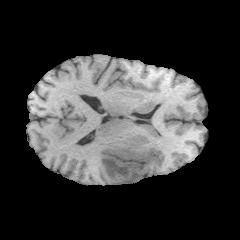glioma: (100, 149, 151, 182)
